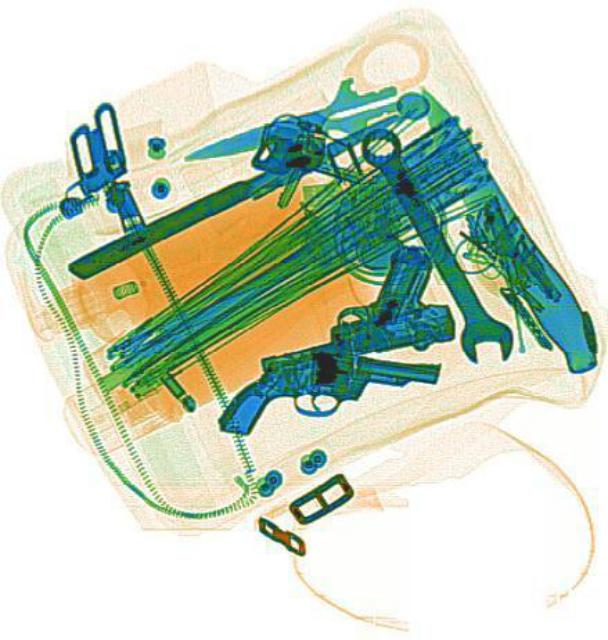Gun: (240, 238, 456, 378), (216, 340, 438, 452)
Knife: (402, 71, 605, 376), (63, 104, 402, 282), (171, 64, 405, 186)
Wrench: (345, 116, 520, 374)
